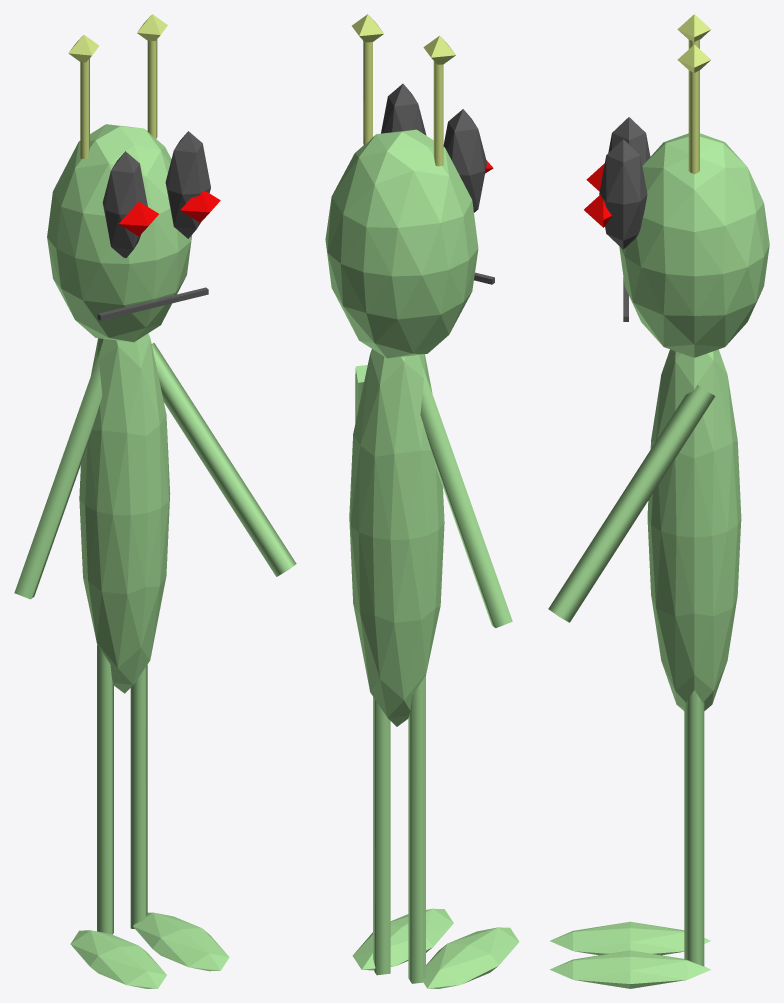
Rendered from alien.obj.
The picture shows the model from 3 angles, left to right: view 1: azimuth 30°, elevation 25°; view 2: azimuth 150°, elevation 25°; view 3: azimuth 270°, elevation 25°; orthographic projection. The views are drawn at different scales.
Visible parts, largest first — view 1: Sphere_2, Sphere_1, Cylinder_1_1, Cylinder_1, Cylinder_2, Cylinder_2_1, Sphere_9, Sphere_9_1, Sphere_3_1, Sphere_3, Cylinder_3_1, Cylinder_3 (+3 smaller); view 2: Sphere_2, Sphere_1, Cylinder_2, Cylinder_1, Cylinder_2_1, Sphere_9, Sphere_3, Sphere_9_1, Sphere_3_1, Cylinder_3, Cylinder_3_1, Sphere_11 (+1 smaller); view 3: Sphere_2, Sphere_1, Cylinder_1_1, Cylinder_2_1, Sphere_9_1, Sphere_3_1, Sphere_9, Cylinder_3_1, Sphere_3, Sphere_11_1, Sphere_11.
Part boxes in pixels (bbox=[...]): Sphere_2: bbox=[79, 333, 170, 693]; Sphere_1: bbox=[47, 124, 191, 342]; Cylinder_1_1: bbox=[151, 343, 296, 576]; Cylinder_1: bbox=[14, 351, 102, 599]; Cylinder_2: bbox=[97, 645, 113, 934]; Cylinder_2_1: bbox=[130, 665, 147, 928]; Sphere_9: bbox=[70, 930, 166, 988]; Sphere_9_1: bbox=[133, 912, 229, 971]; Sphere_3_1: bbox=[165, 131, 210, 238]; Sphere_3: bbox=[102, 151, 147, 257]; Cylinder_3_1: bbox=[147, 39, 157, 139]; Cylinder_3: bbox=[80, 58, 89, 159]; Sphere_2: bbox=[349, 349, 444, 726]; Sphere_1: bbox=[325, 129, 478, 358]; Cylinder_2: bbox=[408, 676, 425, 983]; Cylinder_1: bbox=[420, 367, 512, 627]; Cylinder_2_1: bbox=[373, 697, 390, 975]; Sphere_9: bbox=[422, 927, 519, 988]; Sphere_3: bbox=[443, 109, 486, 212]; Sphere_9_1: bbox=[352, 908, 453, 970]; Sphere_3_1: bbox=[381, 83, 426, 135]; Cylinder_3: bbox=[433, 61, 443, 166]; Cylinder_3_1: bbox=[363, 41, 372, 145]; Sphere_11: bbox=[423, 35, 455, 64]; Sphere_2: bbox=[647, 349, 741, 710]; Sphere_1: bbox=[619, 133, 769, 357]; Cylinder_1_1: bbox=[548, 385, 715, 622]; Cylinder_2_1: bbox=[684, 690, 704, 966]; Sphere_9_1: bbox=[550, 950, 710, 988]; Sphere_3_1: bbox=[599, 139, 647, 249]; Sphere_9: bbox=[550, 921, 710, 955]; Cylinder_3_1: bbox=[688, 70, 699, 174]; Sphere_3: bbox=[608, 117, 650, 165]; Sphere_11_1: bbox=[677, 44, 710, 72]; Sphere_11: bbox=[677, 14, 710, 41].
Size of the model in its own units: 0.8994 by 3.65 by 0.7792.
